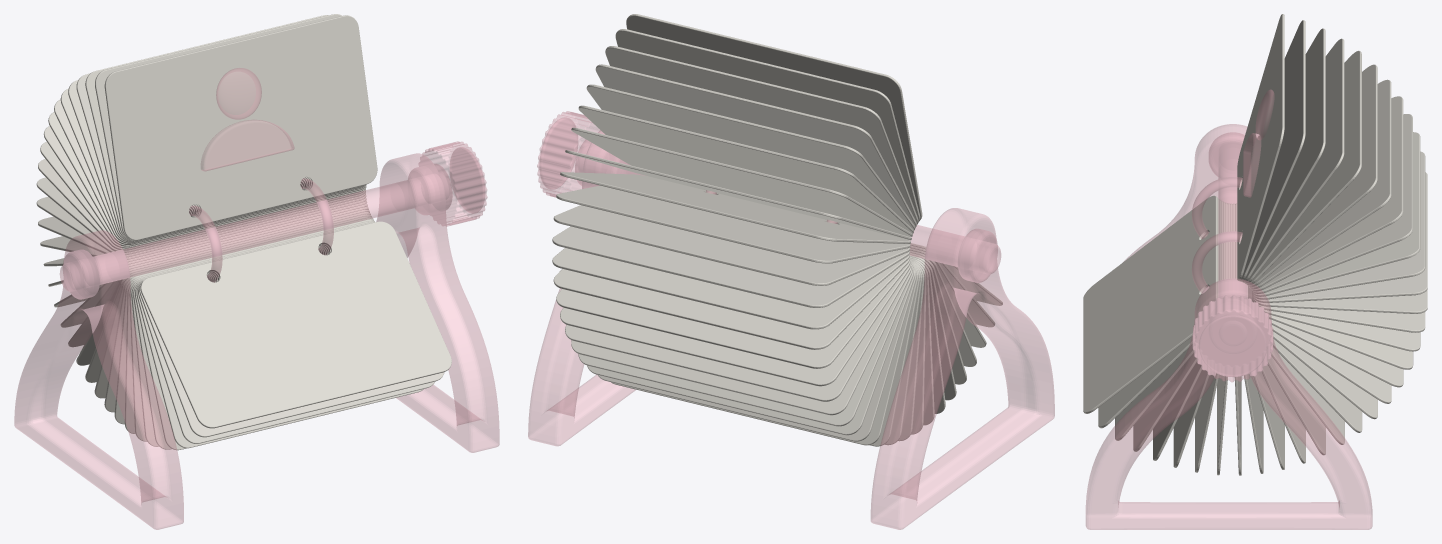
File: cognito.glb
The picture shows the model from 3 angles, left to right: view 1: azimuth 30°, elevation 25°; view 2: azimuth 150°, elevation 25°; view 3: azimuth 270°, elevation 25°; orthographic projection. The views are drawn at different scales.
Parts seen in each view (by area): view 1: Profile card 01, Profile card 34, Swept ruby-glass leg, Swept ruby-glass leg.001, Spindle, Fluted thumbwheel, Profile shoulders, Profile card 33, Profile card 32, Profile card 02, Profile head, Profile card 31 (+33 smaller); view 2: Swept ruby-glass leg, Swept ruby-glass leg.001, Profile card 06, Profile card 11, Profile card 10, Profile card 05, Profile card 12, Profile card 04, Profile card 07, Profile card 13, Profile card 03, Profile card 14 (+29 smaller); view 3: Swept ruby-glass leg.001, Profile card 34, Profile card 01, Fluted thumbwheel, Profile card 02, Profile card 03, Profile card 04, Profile card 05, Profile card 06, Profile card 07, Swept ruby-glass leg, Profile card 08 (+32 smaller).
Part boxes in pixels (<box>): Profile card 01: <box>104,15,377,240</box>; Profile card 34: <box>140,221,451,428</box>; Swept ruby-glass leg: <box>14,230,183,529</box>; Swept ruby-glass leg.001: <box>376,153,499,452</box>; Spindle: <box>60,176,429,291</box>; Fluted thumbwheel: <box>419,141,487,226</box>; Profile shoulders: <box>201,120,294,171</box>; Profile card 33: <box>139,244,444,437</box>; Profile card 32: <box>138,245,434,443</box>; Profile card 02: <box>95,14,342,239</box>; Profile head: <box>216,68,261,119</box>; Profile card 31: <box>136,246,423,448</box>; Swept ruby-glass leg: <box>871,208,1054,529</box>; Swept ruby-glass leg.001: <box>528,130,640,445</box>; Profile card 06: <box>578,105,913,233</box>; Profile card 11: <box>553,205,909,285</box>; Profile card 10: <box>556,185,910,263</box>; Profile card 05: <box>586,84,915,230</box>; Profile card 12: <box>552,226,909,307</box>; Profile card 04: <box>595,64,916,227</box>; Profile card 07: <box>571,127,912,236</box>; Profile card 13: <box>552,248,909,329</box>; Profile card 03: <box>605,46,918,224</box>; Profile card 14: <box>553,257,909,349</box>; Swept ruby-glass leg.001: <box>1086,278,1372,529</box>; Profile card 34: <box>1083,195,1217,413</box>; Profile card 01: <box>1237,14,1284,280</box>; Fluted thumbwheel: <box>1193,295,1272,381</box>; Profile card 02: <box>1240,20,1305,281</box>; Profile card 03: <box>1243,28,1325,282</box>; Profile card 04: <box>1245,38,1344,284</box>; Profile card 05: <box>1247,50,1361,285</box>; Profile card 06: <box>1249,64,1377,287</box>; Profile card 07: <box>1250,79,1391,289</box>; Swept ruby-glass leg: <box>1125,124,1246,260</box>; Profile card 08: <box>1251,96,1403,291</box>.
Bounding box in the file's own units: 3.04 × 2.7 × 2.24.
